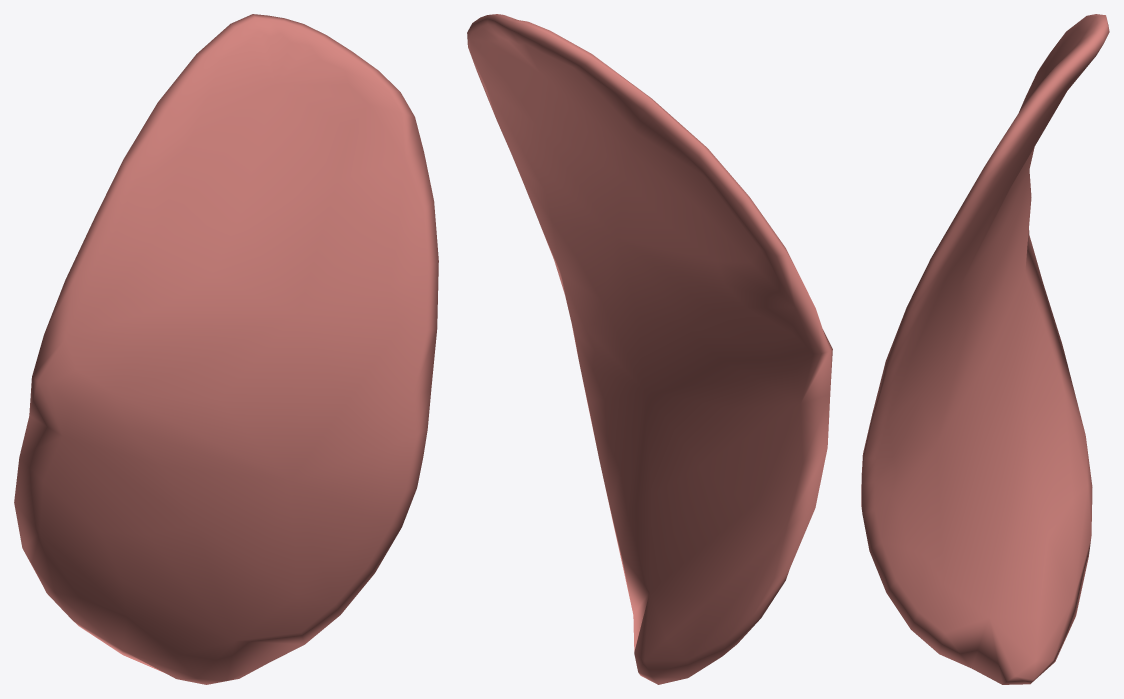
The picture shows the model from 3 angles, left to right: view 1: azimuth 30°, elevation 25°; view 2: azimuth 150°, elevation 25°; view 3: azimuth 270°, elevation 25°; orthographic projection. The views are drawn at different scales.
Visible parts, largest first — view 1: ZA_26cea24a5a43c9fa; view 2: ZA_26cea24a5a43c9fa; view 3: ZA_26cea24a5a43c9fa.
Boxes of the visible parts, box(x1,y1,x2,y2) form: ZA_26cea24a5a43c9fa: box(14, 14, 438, 684); ZA_26cea24a5a43c9fa: box(467, 14, 832, 684); ZA_26cea24a5a43c9fa: box(861, 14, 1109, 684).
Size of the model in its own units: 0.0105 by 0.0169 by 0.0054.
